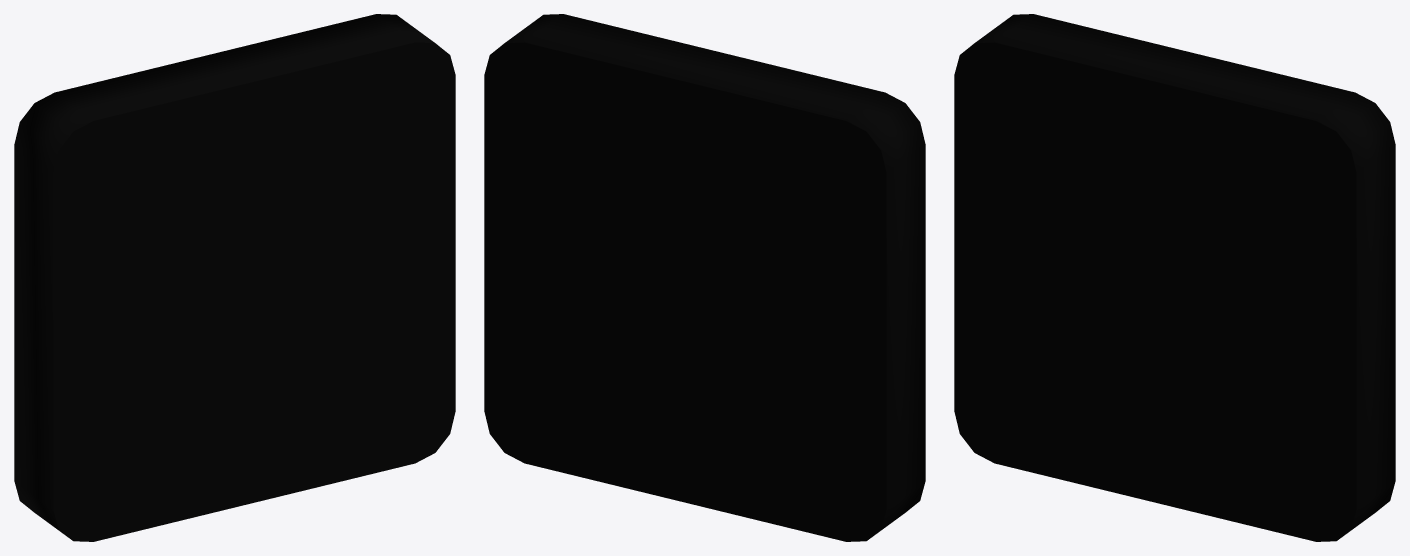
File: tile.glb
3 views of the same model, side by side, from view 1: azimuth 30°, elevation 25°; view 2: azimuth 150°, elevation 25°; view 3: azimuth 330°, elevation 25° (orthographic).
Parts seen in each view (by area): view 1: Tile; view 2: Tile; view 3: Tile.
Boxes of the visible parts, <box> form: Tile: <box>14,14,455,541</box>; Tile: <box>484,14,925,541</box>; Tile: <box>954,14,1395,541</box>.
Size of what is drawn, in the model's own units: 0.4 by 0.4 by 0.067.
1 material, 1 textured.
